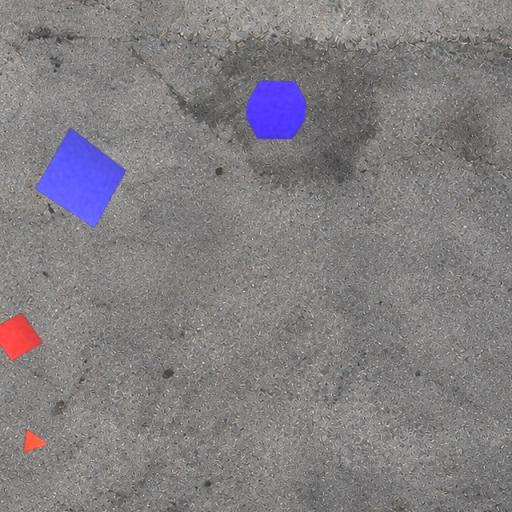BLUE_SQUARE: (34, 126, 128, 228)
RED_SQUARE: (0, 312, 44, 362)
